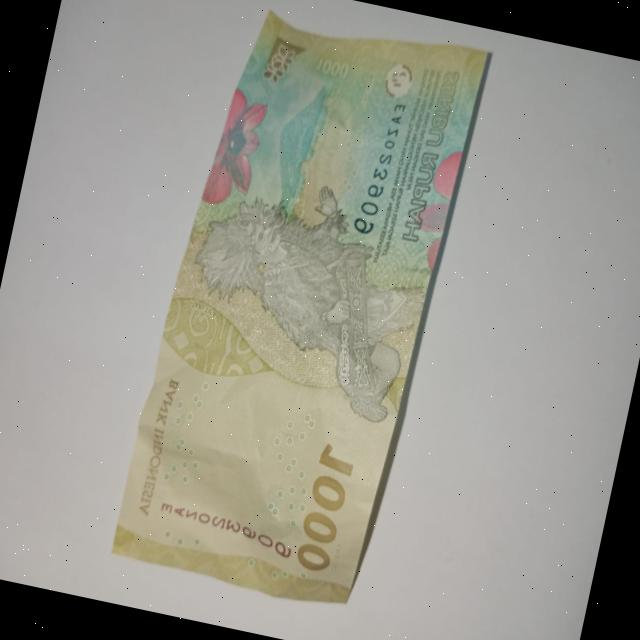1K: (94, 0, 512, 617)
